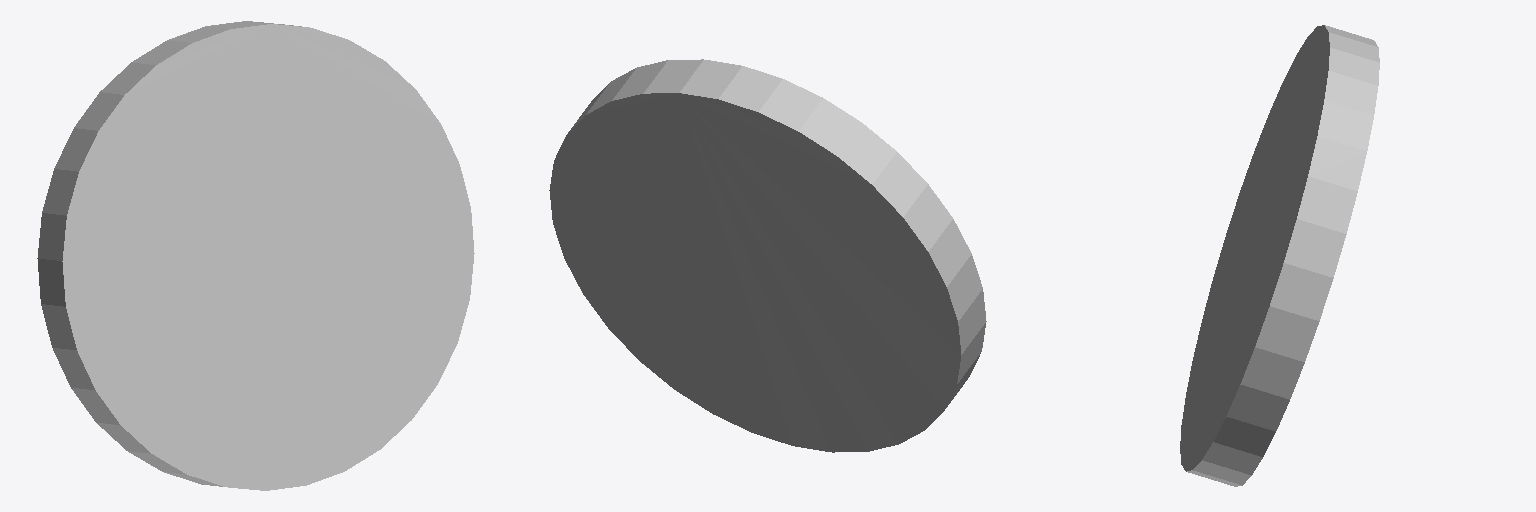
The model's file is powBtn.obj.
The picture shows the model from 3 angles: view 1: azimuth 30°, elevation 25°; view 2: azimuth 150°, elevation 25°; view 3: azimuth 270°, elevation 25°; orthographic projection.
Visible parts, largest first — view 1: Cube.016; view 2: Cube.016; view 3: Cube.016.
Boxes of the visible parts, x1,y1,x2,y2 form: Cube.016: [37, 21, 474, 490]; Cube.016: [549, 59, 986, 452]; Cube.016: [1180, 25, 1379, 486].
Bounding box in the file's own units: 0.006 × 0.0059 × 0.0026.